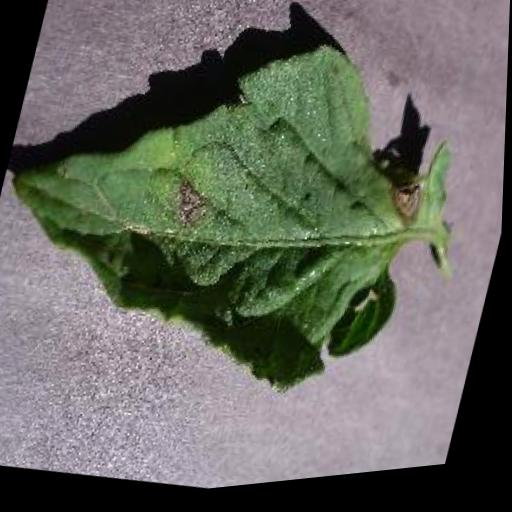Early Blight: (0, 0, 508, 452)
